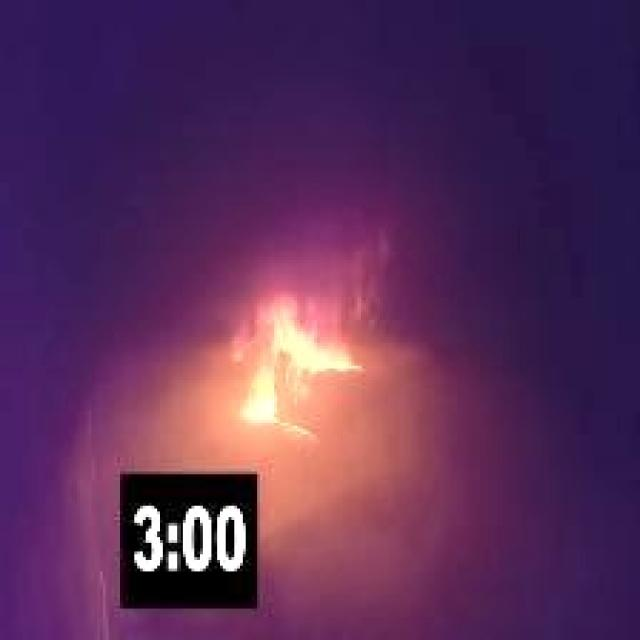fire: (204, 292, 350, 434)
